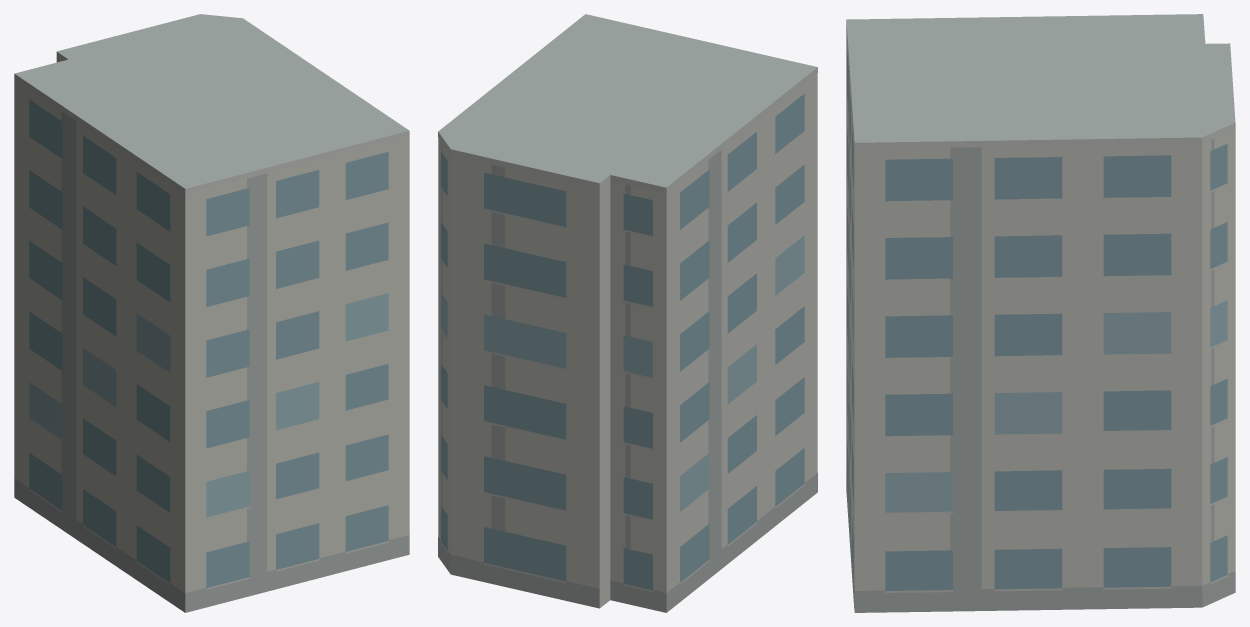
File: survey-upis-32629186.glb
3 views of the same model, side by side, from view 1: azimuth 30°, elevation 25°; view 2: azimuth 150°, elevation 25°; view 3: azimuth 270°, elevation 25° (orthographic). The views are drawn at different scales.
Parts seen in each view (by area): view 1: survey-upis-32629186.tmp; view 2: survey-upis-32629186.tmp; view 3: survey-upis-32629186.tmp.
Part boxes in pixels (x1,y1,x2,y2): survey-upis-32629186.tmp: [14, 14, 409, 612]; survey-upis-32629186.tmp: [438, 14, 817, 612]; survey-upis-32629186.tmp: [846, 14, 1235, 612].
Bounding box in the file's own units: 10.58 × 18 × 13.51.
